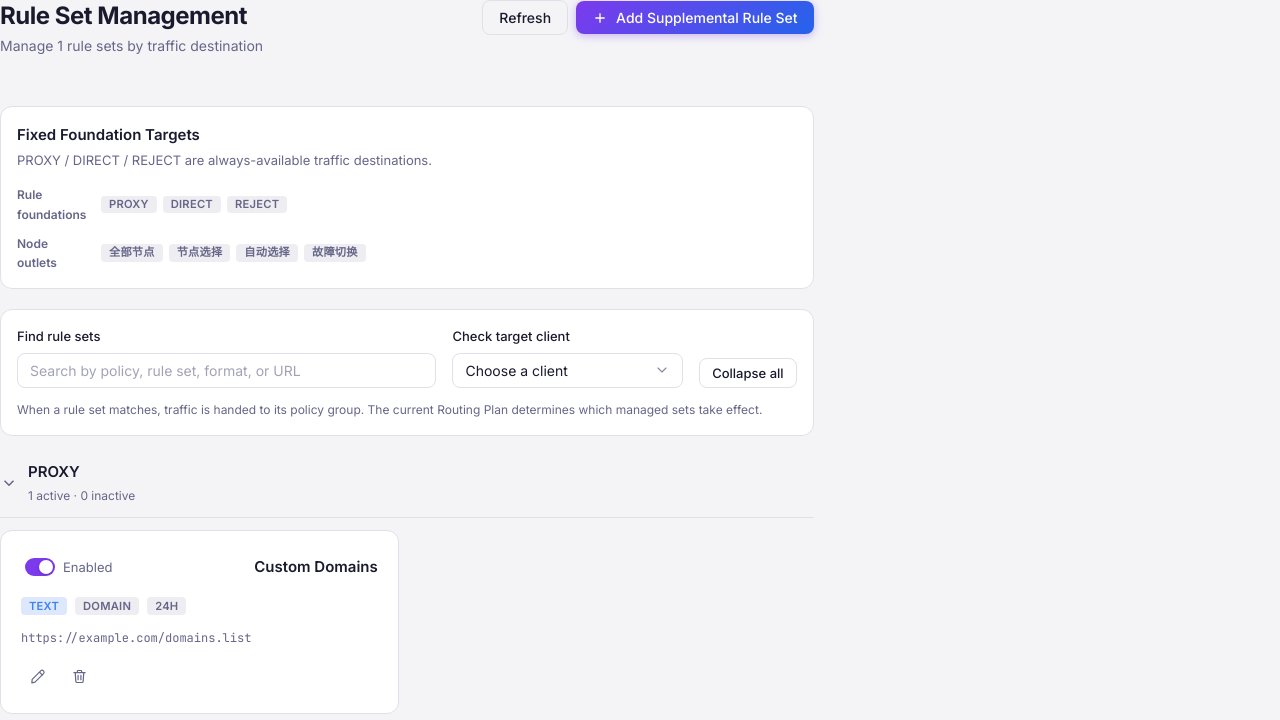
Scenario: RemoteRuleSets content validation › keeps the editor open and explains a save failure
This screenshot has width=1280, height=720.
What coordinates should you click on to do the following:
click the button named "Edit"
I would click on:
 (37, 677)
Its box is [21, 661, 53, 693].
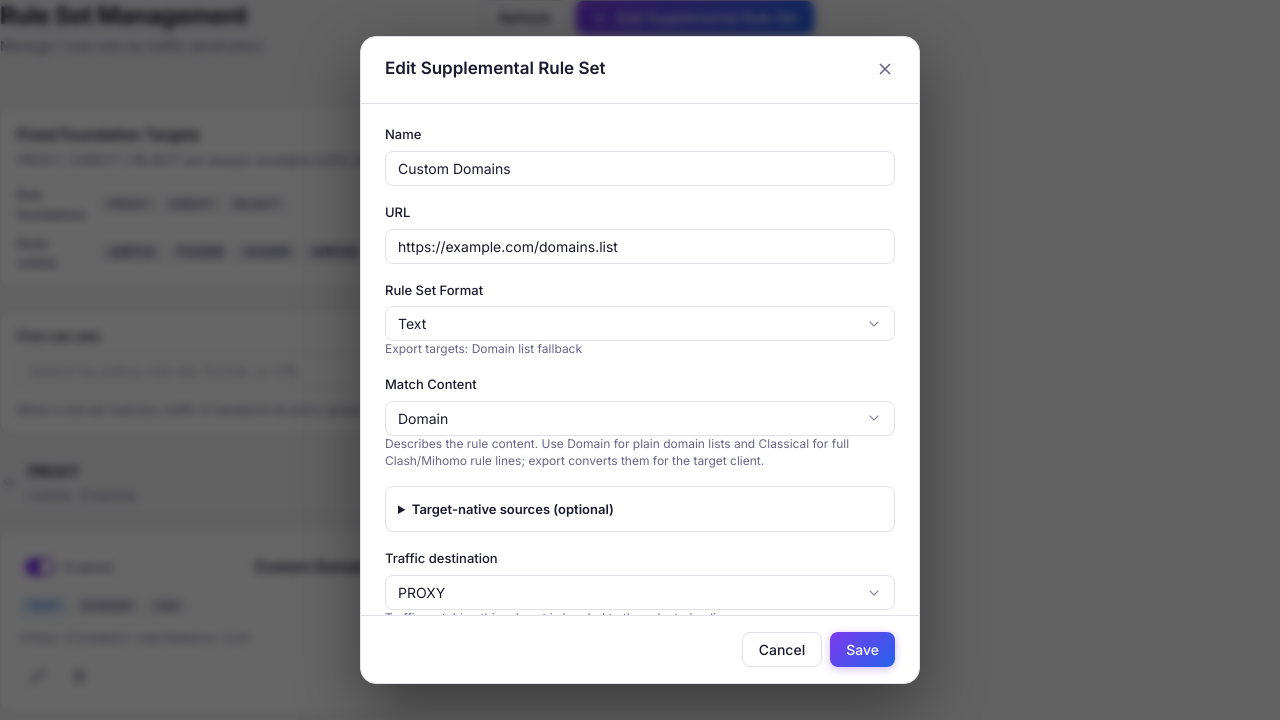
What coordinates should you click on to do the following:
click the button "Save"
I would click on:
 (863, 650)
Its box is [830, 632, 895, 667].
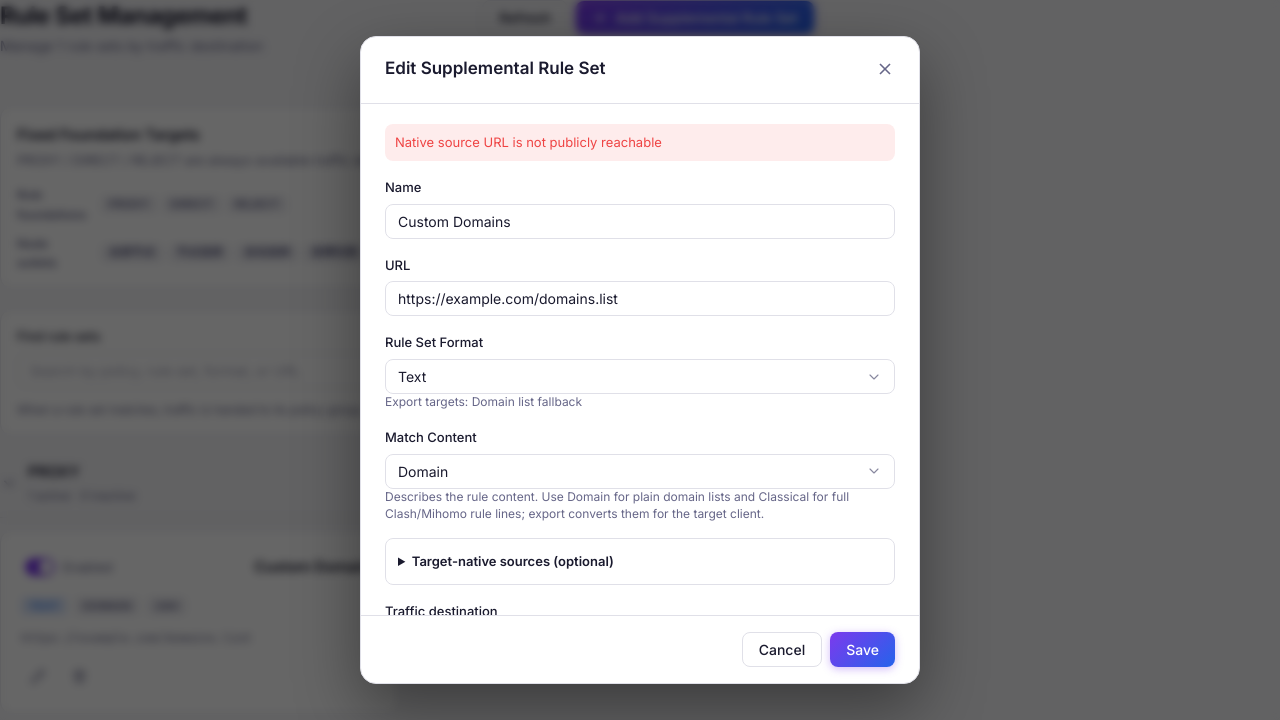
Check: the dialog is shown, box [360, 36, 920, 684]
Check: the button "Save" is enabled, box [830, 632, 895, 667]
Check: the message reads "Native source URL is not publicly reachable", box [395, 134, 662, 150]
